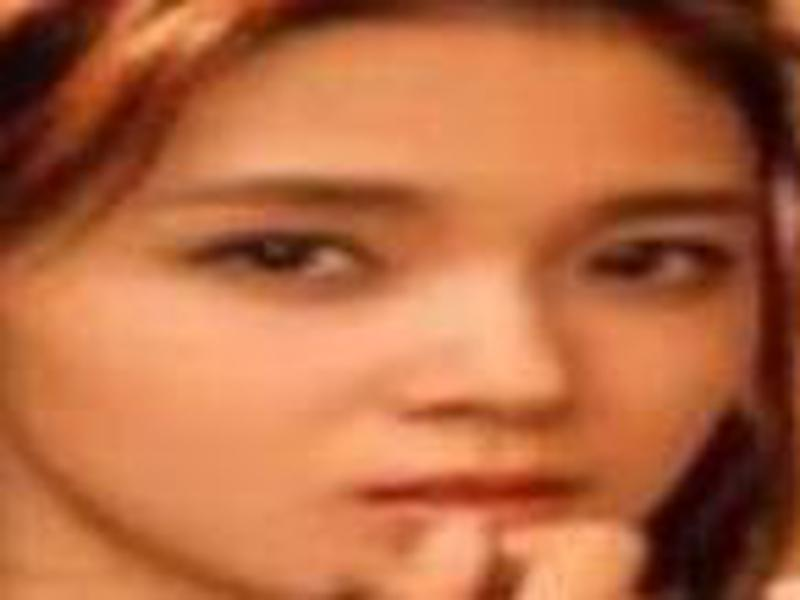without_mask: (42, 50, 765, 589)
